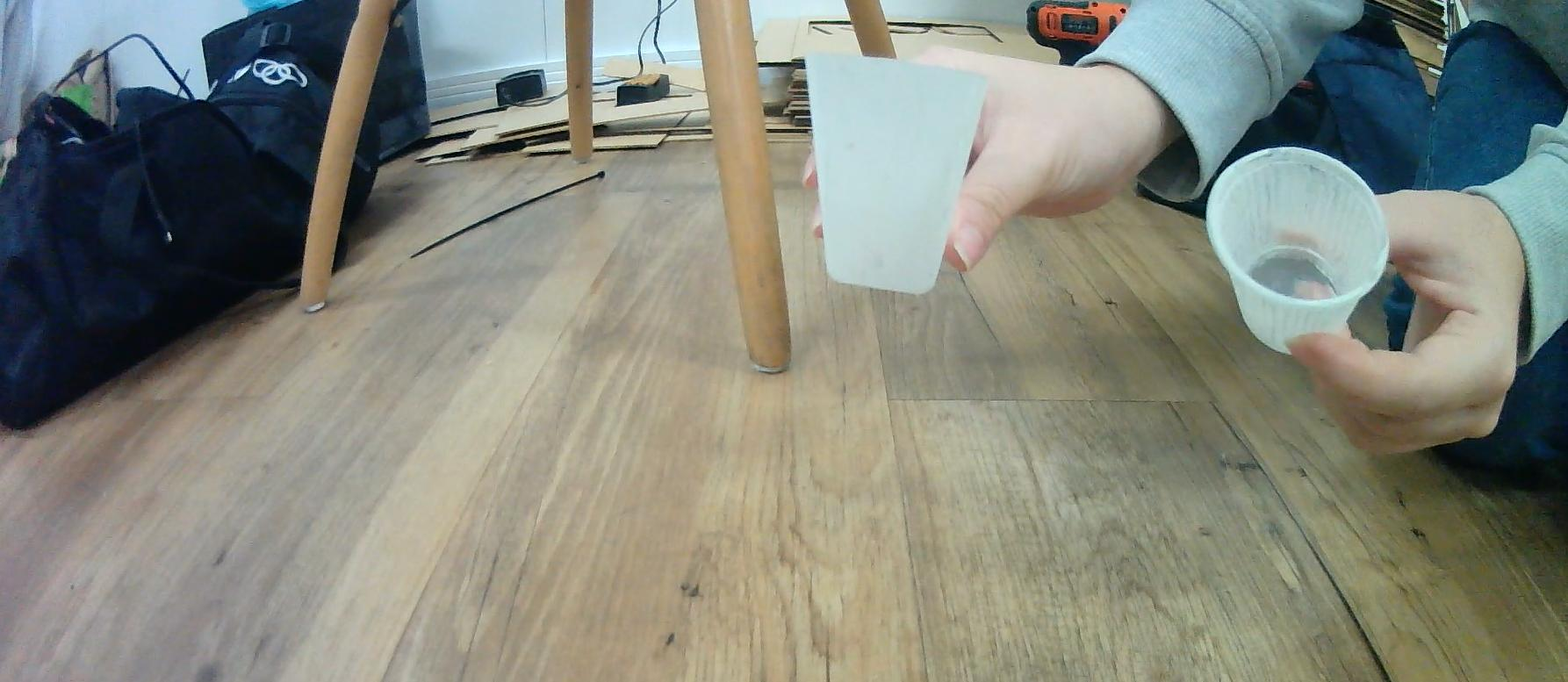erva_daninha: (803, 50, 989, 296)
planta: (1205, 143, 1391, 356)
